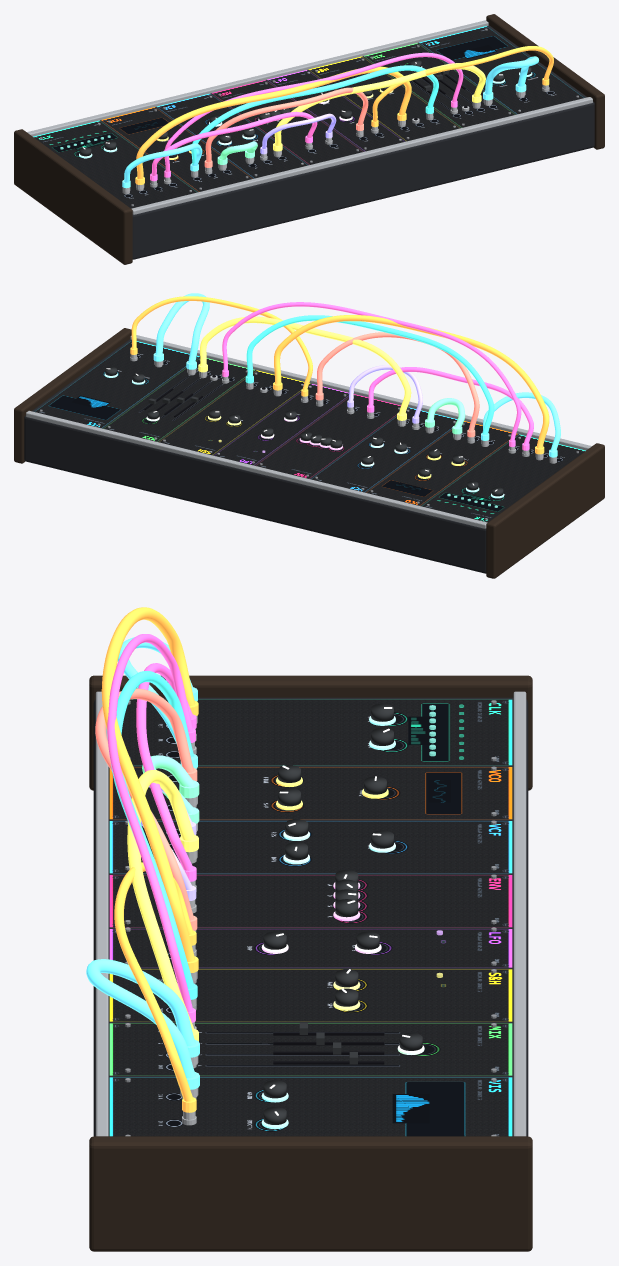
Rendered from hero.glb.
3 views of the same model, one above another, from view 1: azimuth 30°, elevation 25°; view 2: azimuth 150°, elevation 25°; view 3: azimuth 270°, elevation 25° (orthographic). The views are drawn at different scales.
Parts seen in each view (by area): view 1: Case_Body, Case_Cheek_0, Module_CLK_Face, Module_VIS_Face, Module_VCO_Face, Module_RND_Face, Module_MIX_Face, Case_Rail_Bot, Module_FLT_Face, Module_ENV_Face, Case_Rail_Top, Module_LFO_Face (+11 smaller); view 2: Case_Body, Case_Cheek_0, Module_VIS_Face, Module_CLK_Face, Module_RND_Face, Module_ENV_Face, Module_FLT_Face, Module_MIX_Face, Module_VCO_Face, Case_Rail_Top, Module_LFO_Face, Case_Rail_Bot (+12 smaller); view 3: Case_Cheek_1, Module_CLK_Face, Module_VIS_Face, Module_MIX_Face, Module_RND_Face, Module_ENV_Face, Module_FLT_Face, Module_VCO_Face, Module_LFO_Face, Case_Body, Case_Cheek_0, Case_Rail_Top (+10 smaller).
Boxes of the visible parts, <box> form: Case_Body: <box>100,25,594,259</box>; Case_Cheek_0: <box>14,129,132,264</box>; Module_CLK_Face: <box>33,120,197,208</box>; Module_VIS_Face: <box>419,26,584,114</box>; Module_VCO_Face: <box>101,107,252,191</box>; Module_RND_Face: <box>308,56,459,141</box>; Module_MIX_Face: <box>364,43,515,127</box>; Case_Rail_Bot: <box>131,97,592,214</box>; Module_FLT_Face: <box>156,93,307,178</box>; Module_ENV_Face: <box>212,80,362,164</box>; Case_Rail_Top: <box>27,20,488,136</box>; Module_LFO_Face: <box>267,70,404,151</box>; Case_Body: <box>24,339,518,573</box>; Case_Cheek_0: <box>486,443,604,578</box>; Module_VIS_Face: <box>34,340,199,428</box>; Module_CLK_Face: <box>421,434,585,522</box>; Module_RND_Face: <box>159,370,310,455</box>; Module_ENV_Face: <box>256,394,400,478</box>; Module_FLT_Face: <box>311,407,457,492</box>; Module_MIX_Face: <box>103,358,254,441</box>; Module_VCO_Face: <box>366,421,517,505</box>; Case_Rail_Top: <box>26,410,487,528</box>; Module_LFO_Face: <box>214,384,349,465</box>; Case_Rail_Bot: <box>130,335,591,450</box>; Case_Cheek_1: <box>89,1136,532,1251</box>; Module_CLK_Face: <box>121,699,512,765</box>; Module_VIS_Face: <box>109,1077,512,1136</box>; Module_MIX_Face: <box>109,1023,512,1075</box>; Module_RND_Face: <box>109,969,512,1021</box>; Module_ENV_Face: <box>109,875,512,927</box>; Module_FLT_Face: <box>109,821,512,873</box>; Module_VCO_Face: <box>109,767,512,819</box>; Module_LFO_Face: <box>109,929,512,967</box>; Case_Body: <box>93,697,528,1136</box>; Case_Cheek_0: <box>89,675,532,790</box>; Case_Rail_Top: <box>513,691,526,1136</box>.
Size of the model in its own units: 1.2 by 0.3202 by 0.4832.
Materials: 47 (11 with a texture image).
